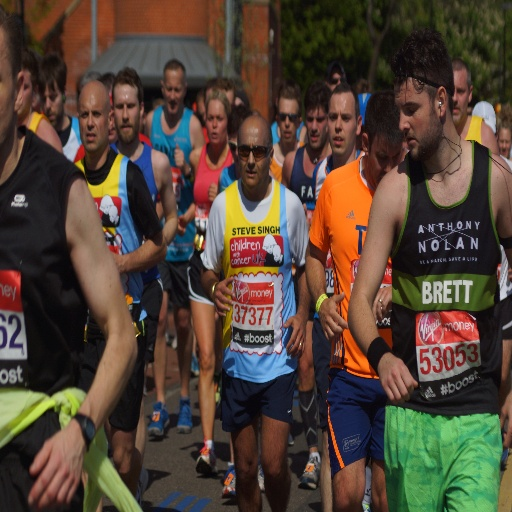hand: (26, 424, 85, 511), (378, 352, 420, 404), (318, 290, 350, 343), (283, 314, 306, 362), (213, 274, 235, 319), (498, 390, 511, 452), (371, 284, 391, 324), (173, 143, 186, 170), (175, 213, 187, 240), (206, 181, 218, 204), (110, 250, 120, 274)
